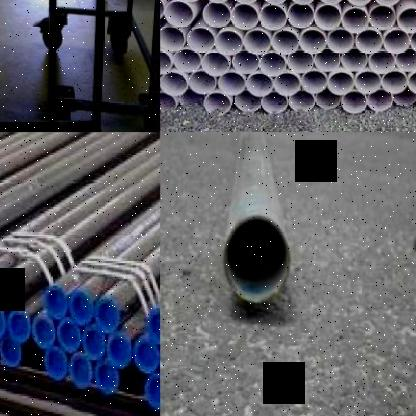pipe: (223, 213, 290, 304), (66, 286, 96, 327), (29, 309, 58, 351), (66, 349, 95, 389), (103, 331, 134, 368), (91, 359, 121, 397), (94, 294, 122, 333), (131, 337, 160, 374), (43, 282, 69, 322), (6, 304, 32, 344), (80, 324, 108, 361), (55, 316, 83, 353), (42, 347, 70, 382), (0, 275, 23, 316), (165, 2, 194, 28), (0, 337, 23, 369), (202, 2, 230, 28), (215, 30, 243, 56), (201, 52, 230, 77), (231, 4, 258, 30), (314, 5, 342, 30), (244, 30, 272, 54), (173, 49, 201, 73), (189, 70, 217, 94), (186, 29, 215, 52), (260, 5, 286, 30), (370, 5, 396, 30), (342, 8, 369, 32), (327, 30, 354, 54), (355, 30, 382, 54), (232, 50, 259, 74), (300, 70, 328, 93), (218, 72, 246, 95), (204, 92, 232, 115), (288, 4, 314, 28), (300, 30, 326, 54), (383, 30, 409, 54), (272, 30, 298, 54), (274, 72, 300, 96), (259, 53, 286, 76), (381, 70, 408, 93), (160, 72, 187, 95), (368, 51, 396, 73), (234, 90, 262, 112), (160, 27, 185, 51), (314, 49, 340, 72), (328, 72, 354, 95), (341, 91, 367, 114), (341, 49, 368, 71), (246, 74, 273, 96), (354, 72, 382, 93), (144, 374, 160, 410), (288, 50, 314, 72), (288, 90, 314, 112), (262, 92, 288, 114), (146, 306, 160, 346), (368, 89, 392, 111), (395, 48, 416, 72), (316, 89, 340, 110), (397, 8, 416, 32), (180, 89, 204, 108), (393, 86, 416, 105), (160, 92, 177, 114), (0, 302, 8, 340), (160, 50, 172, 74), (407, 71, 416, 93), (346, 0, 374, 6), (374, 0, 402, 6), (410, 29, 416, 53), (288, 0, 316, 5), (317, 0, 345, 4)
